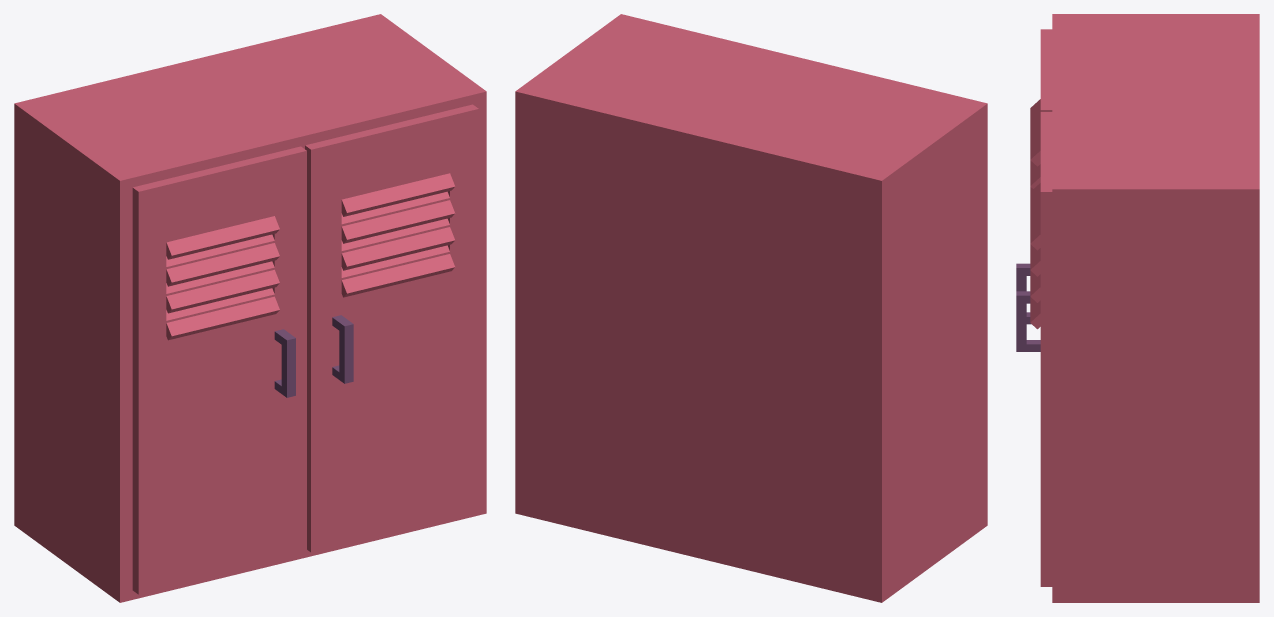
The model's file is Kast.fbx.
The picture shows the model from 3 angles, left to right: view 1: azimuth 30°, elevation 25°; view 2: azimuth 150°, elevation 25°; view 3: azimuth 270°, elevation 25°; orthographic projection. The views are drawn at different scales.
Parts seen in each view (by area): view 1: pCube3, pCube26, pCube28, pCube29, pCube30, pCube32, pCube19, pCube31, pCube6, pCube21, pCube17, pCube27 (+1 smaller); view 2: pCube3; view 3: pCube3, pCube28, pCube26, pCube27, pCube6, pCube31, pCube14.
Boxes of the visible parts, x1,y1,x2,y2 form: pCube3: [14, 14, 486, 602]; pCube26: [132, 146, 306, 594]; pCube28: [305, 104, 478, 552]; pCube29: [341, 227, 455, 270]; pCube30: [341, 200, 455, 243]; pCube32: [341, 254, 454, 297]; pCube19: [166, 269, 279, 313]; pCube31: [341, 173, 454, 216]; pCube6: [166, 216, 279, 259]; pCube21: [166, 296, 279, 340]; pCube17: [166, 243, 279, 286]; pCube27: [332, 315, 353, 383]; pCube3: [515, 14, 987, 602]; pCube3: [1052, 14, 1259, 602]; pCube28: [1040, 112, 1052, 586]; pCube26: [1040, 29, 1052, 111]; pCube27: [1016, 291, 1040, 351]; pCube6: [1030, 99, 1040, 166]; pCube31: [1030, 183, 1040, 250]; pCube14: [1016, 263, 1031, 324].
Size of the model in its own units: 2 by 2.2 by 1.17.
